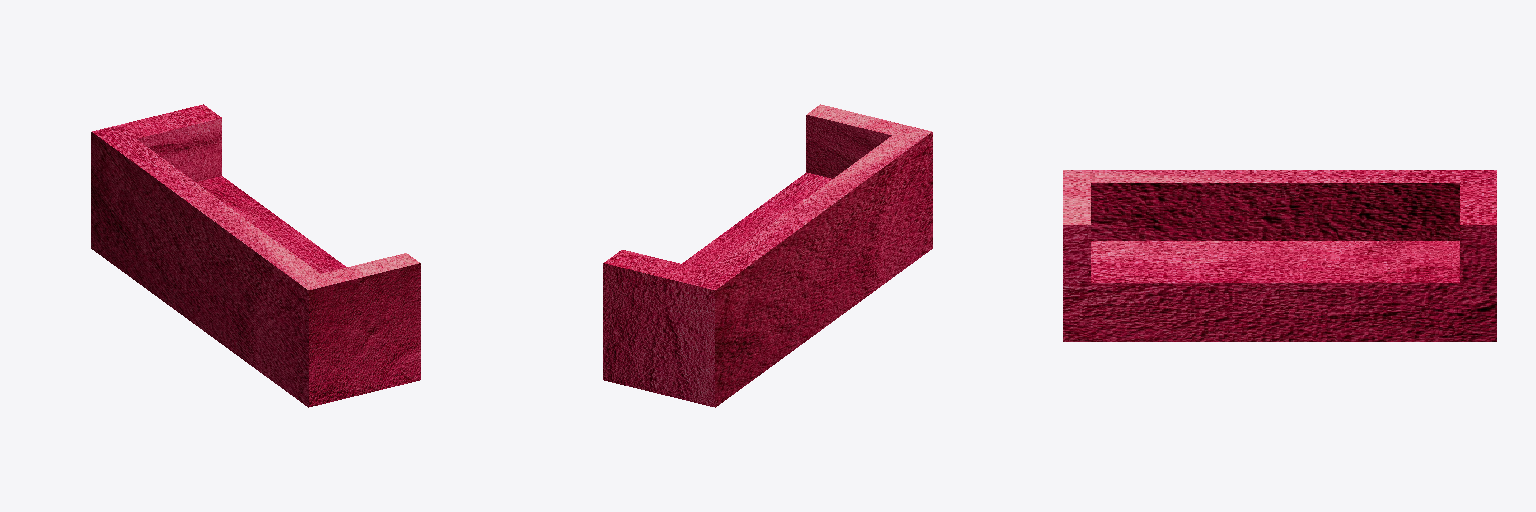
3 renders of one model, left to right at view 1: azimuth 30°, elevation 25°; view 2: azimuth 150°, elevation 25°; view 3: azimuth 270°, elevation 25°, orthographic.
Parts seen in each view (by area): view 1: Cube; view 2: Cube; view 3: Cube.
Part boxes in pixels (x1,y1,x2,y2): Cube: (91,104,420,407); Cube: (603,104,932,407); Cube: (1063,170,1496,341).
Size of the model in its own units: 2 by 2 by 6.71.
Materials: 1 (1 with a texture image).